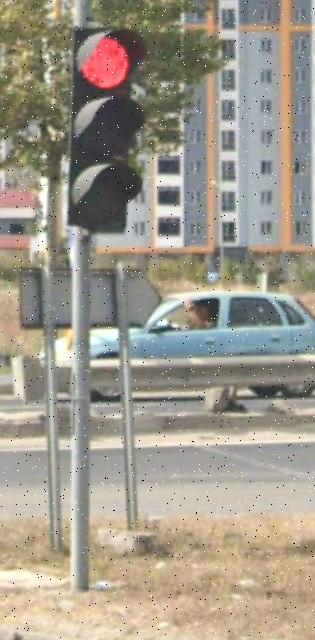redlight: (73, 27, 141, 232)
